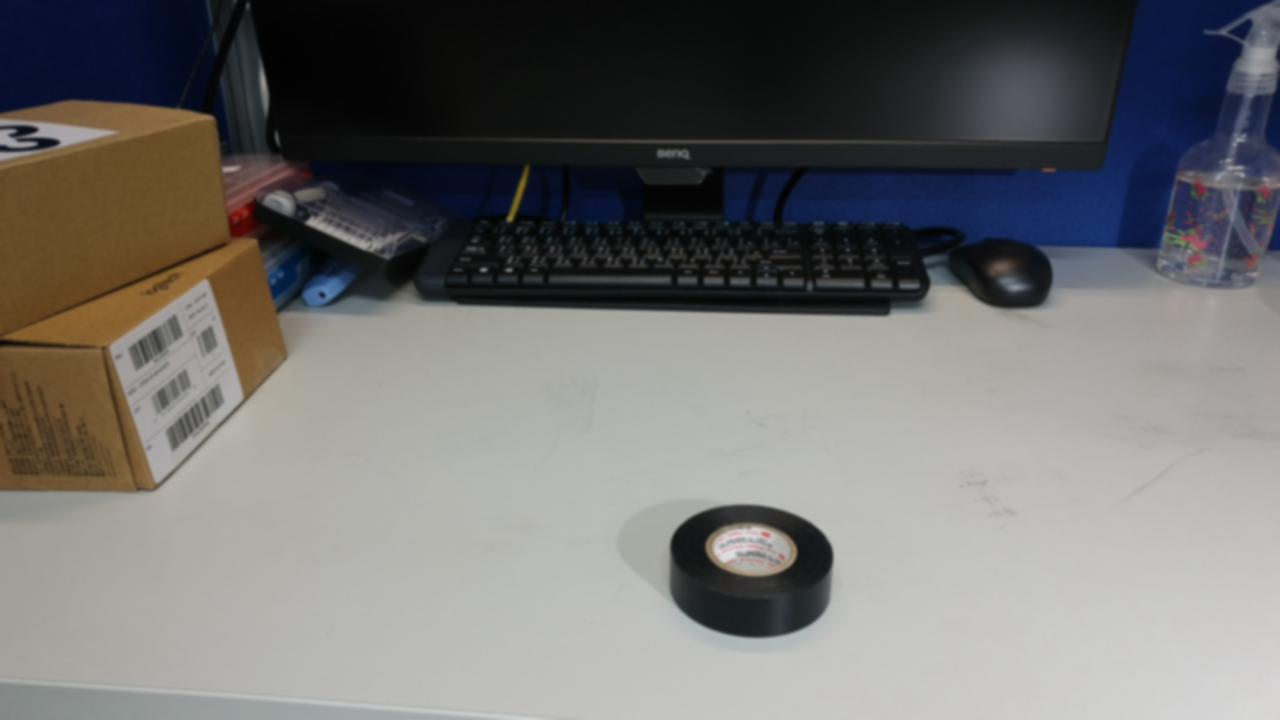blade: (317, 606, 410, 656)
grasp: (397, 564, 570, 685)
